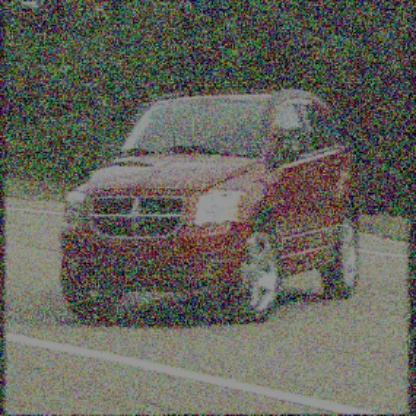Vehicle: (61, 89, 361, 322)
